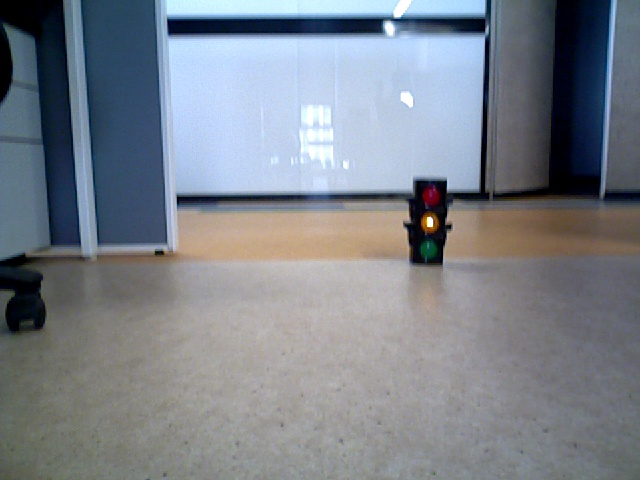yellow: (412, 181, 443, 266)
